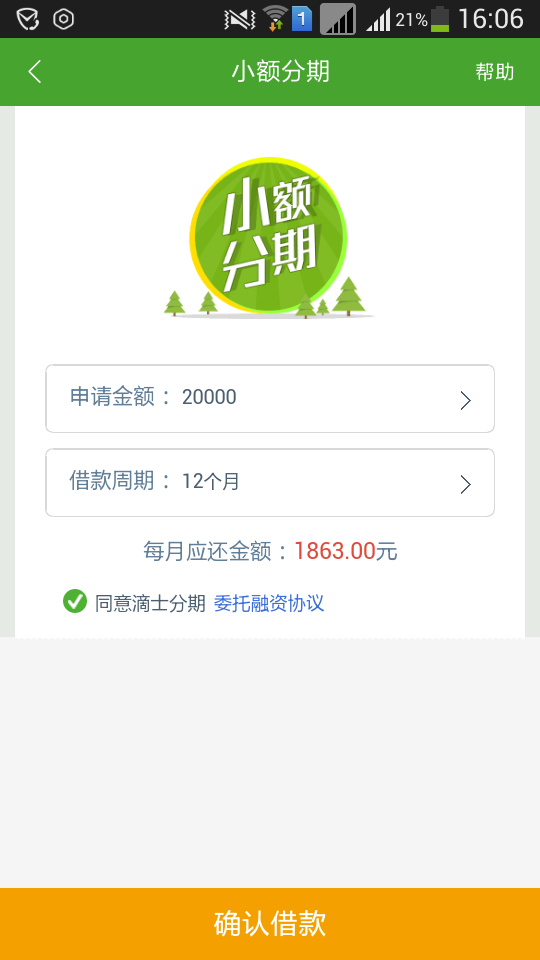button: (1, 883, 540, 960)
checkbox: (56, 585, 334, 622)
imgbutton: (443, 382, 486, 420)
imgview: (156, 151, 382, 324)
textview: (40, 359, 502, 440), (40, 446, 503, 525), (128, 531, 417, 573)
